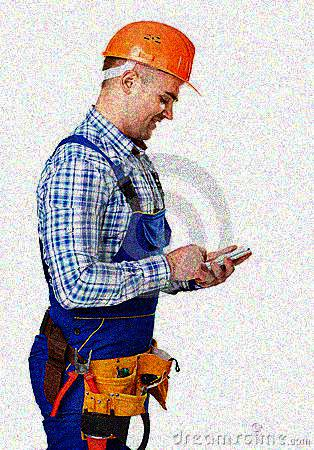helmet: (100, 21, 200, 144)
